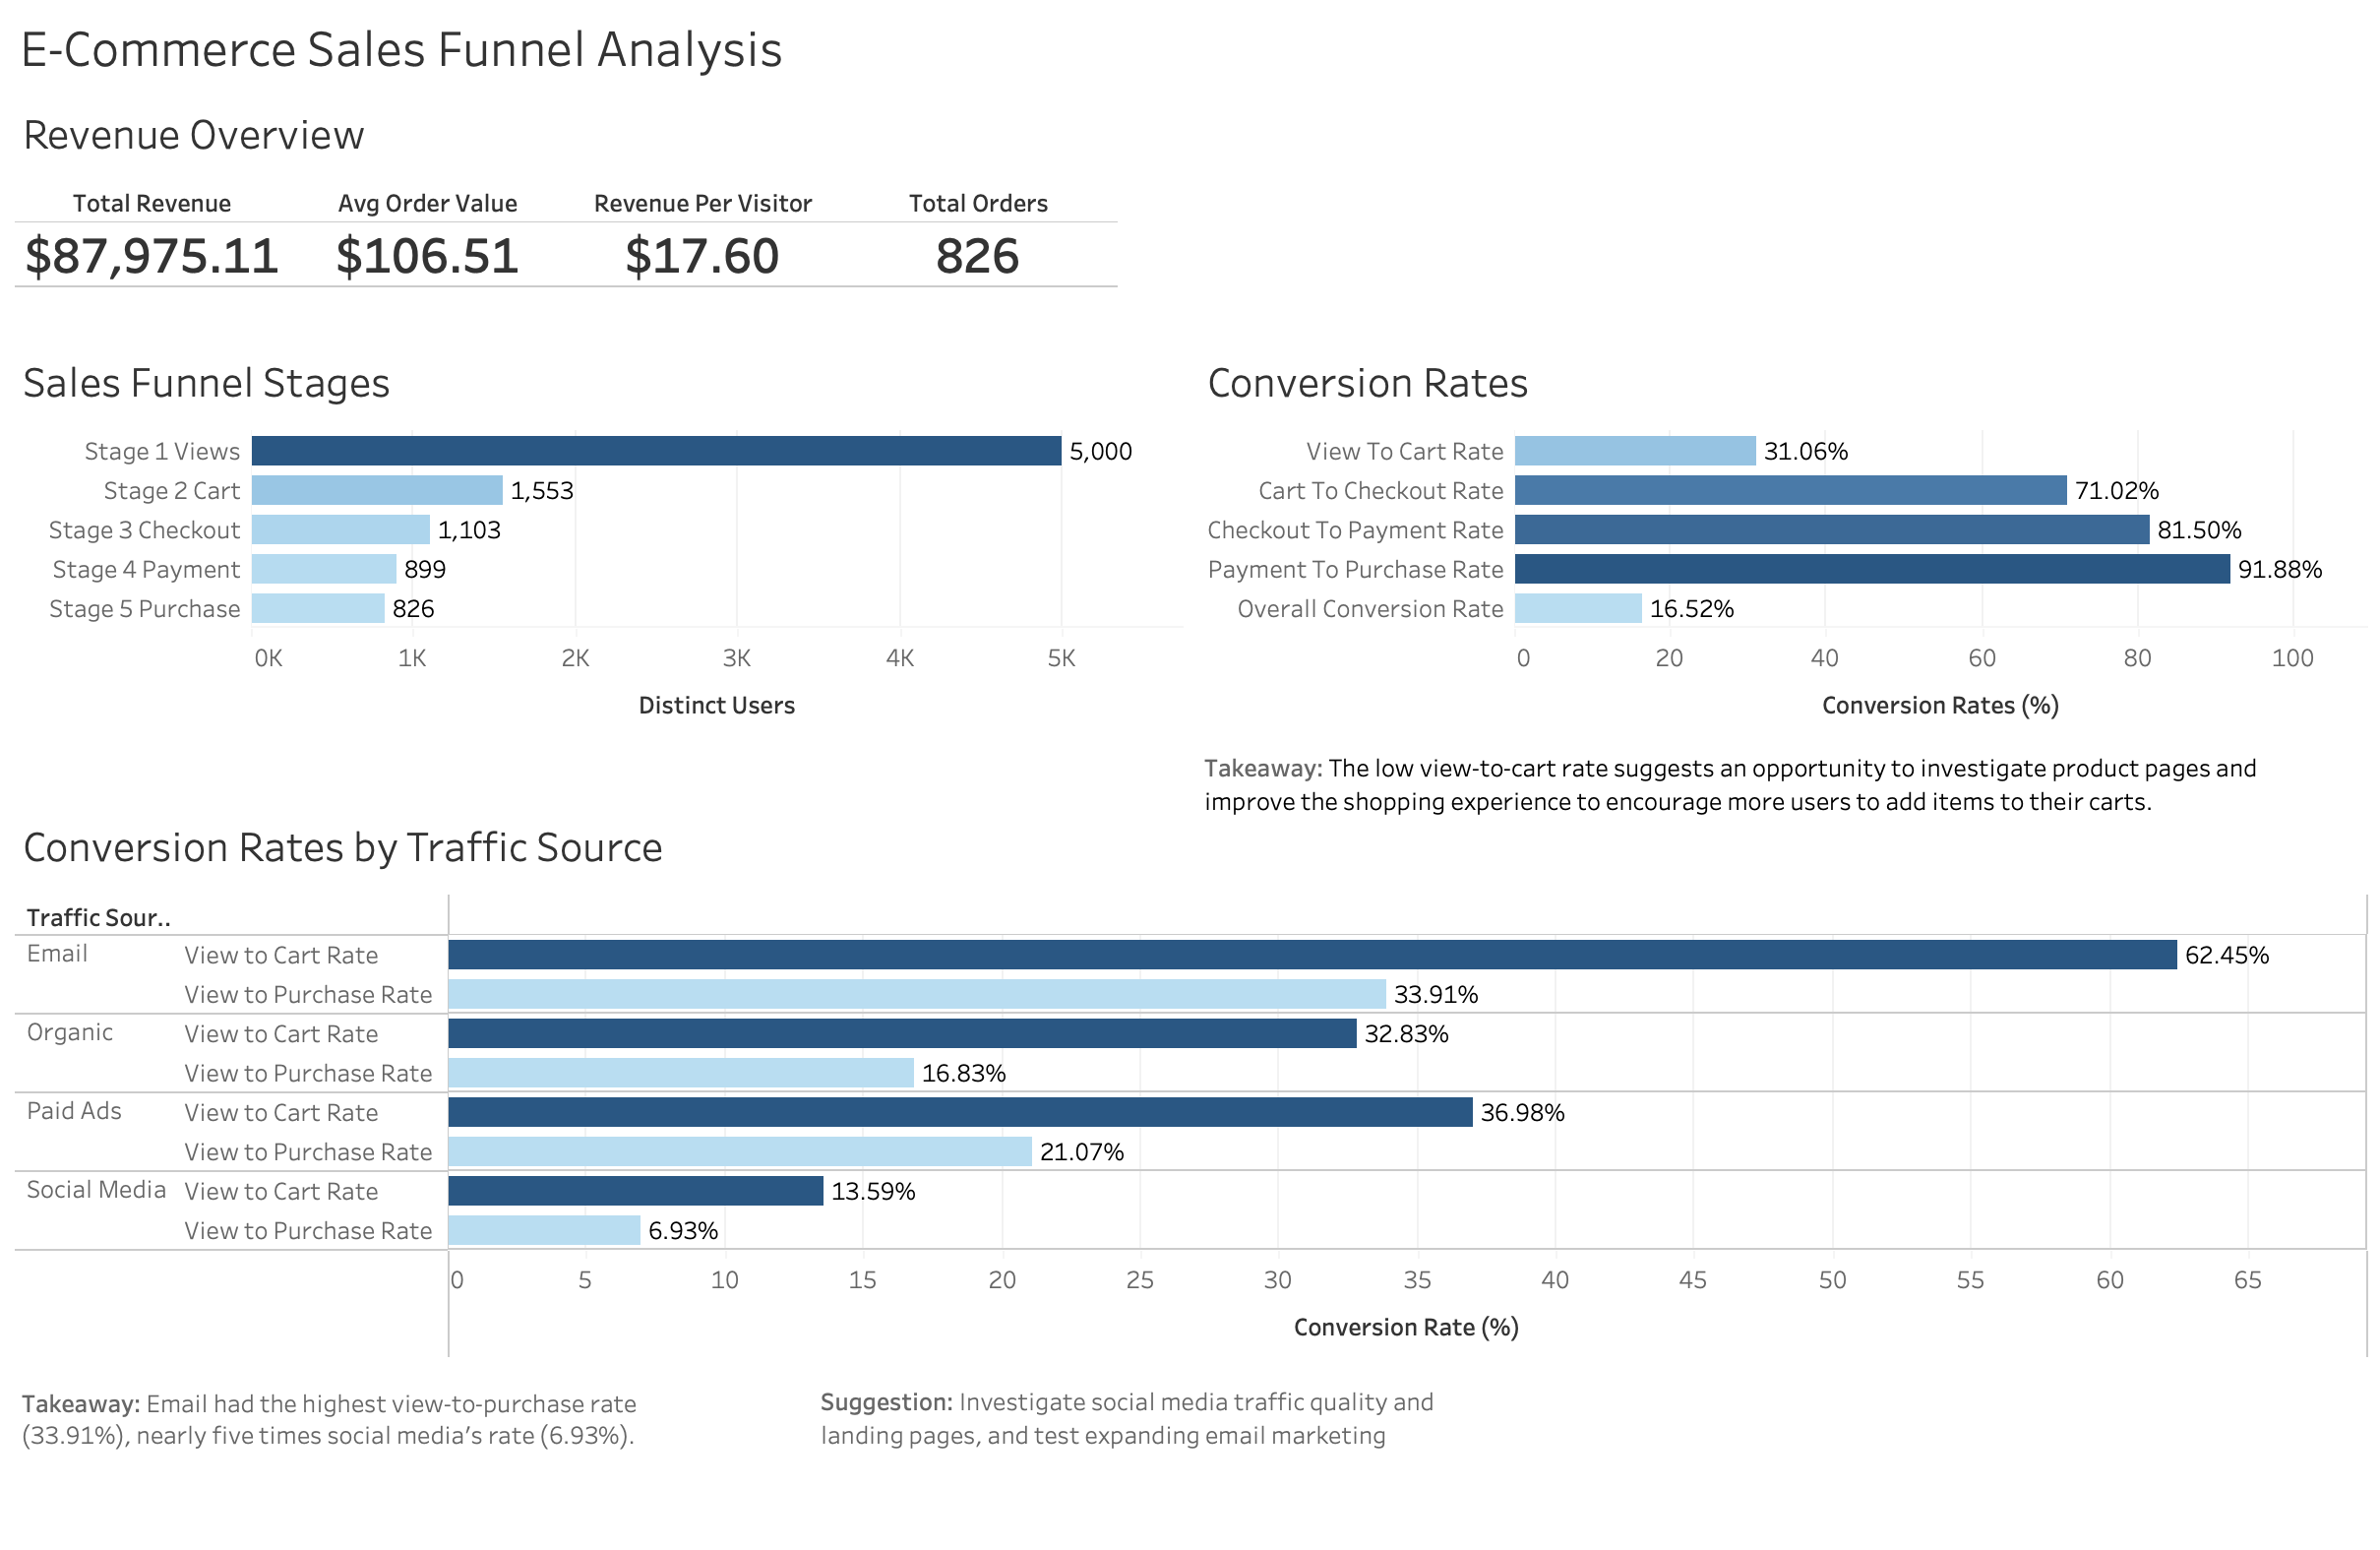

Layout of this report page (visuals, bound fields, positions):
{"tool":"tableau","page":{"name":"E-Commerce Sales Funnel Analysis","canvas":[1220,800],"ordinal":0},"visuals":[{"type":"title","box":[8,8,1204,42]},{"type":"worksheet","title":"Revenue Overview","mark":"Automatic","box":[8,50,1204,126]},{"type":"worksheet","title":"Sales Funnel Stages","mark":"Bar","box":[8,176,602,236]},{"type":"worksheet","title":"Conversion Rates","mark":"Automatic","box":[610,176,602,236]},{"type":"text","box":[614,386,565,34]},{"type":"worksheet","title":"Conversion Rates by Traffic Source","mark":"Automatic","rows":["traffic_source"],"box":[8,412,1204,380]},{"type":"text","box":[13,682,372,87]},{"type":"text","box":[419,708,331,34]}]}

Visuals, with their boxes in screenshot pixels (x1, y1, x2, y2), scaled from the page's 1220x800 canvas onto the 2380x1550 screenshot:
title: (16, 16, 2364, 96)
"Revenue Overview" worksheet: (16, 96, 2364, 341)
"Sales Funnel Stages" worksheet (Bar marks): (16, 341, 1190, 798)
"Conversion Rates" worksheet: (1190, 341, 2364, 798)
text: (1197, 748, 2300, 814)
"Conversion Rates by Traffic Source" worksheet: (16, 798, 2364, 1534)
text: (26, 1322, 751, 1490)
text: (818, 1372, 1463, 1438)
